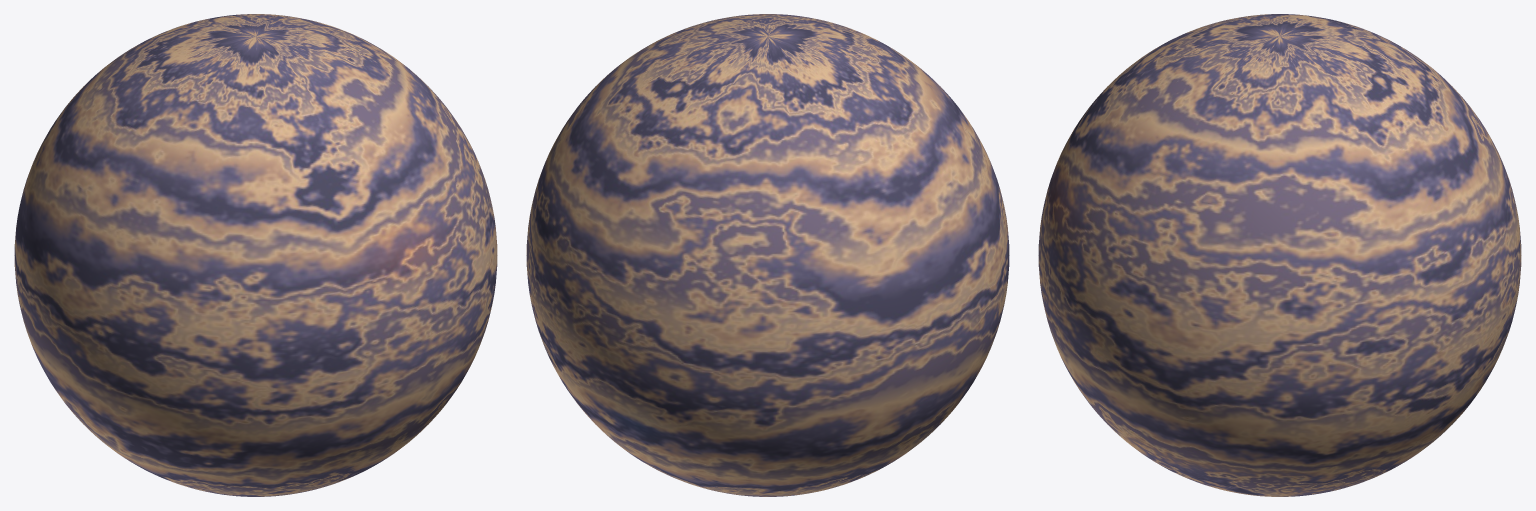
Rendered from gas.glb.
3 renders of one model, left to right at view 1: azimuth 30°, elevation 25°; view 2: azimuth 150°, elevation 25°; view 3: azimuth 270°, elevation 25°, orthographic.
Visible parts, largest first — view 1: Planet · Gas; view 2: Planet · Gas; view 3: Planet · Gas.
Boxes of the visible parts, bbox=[...] form: Planet · Gas: bbox=[14, 14, 497, 496]; Planet · Gas: bbox=[526, 14, 1009, 496]; Planet · Gas: bbox=[1038, 14, 1521, 496].
Size of the model in its own units: 2 by 2 by 2.
Materials: 1 (1 with a texture image).
